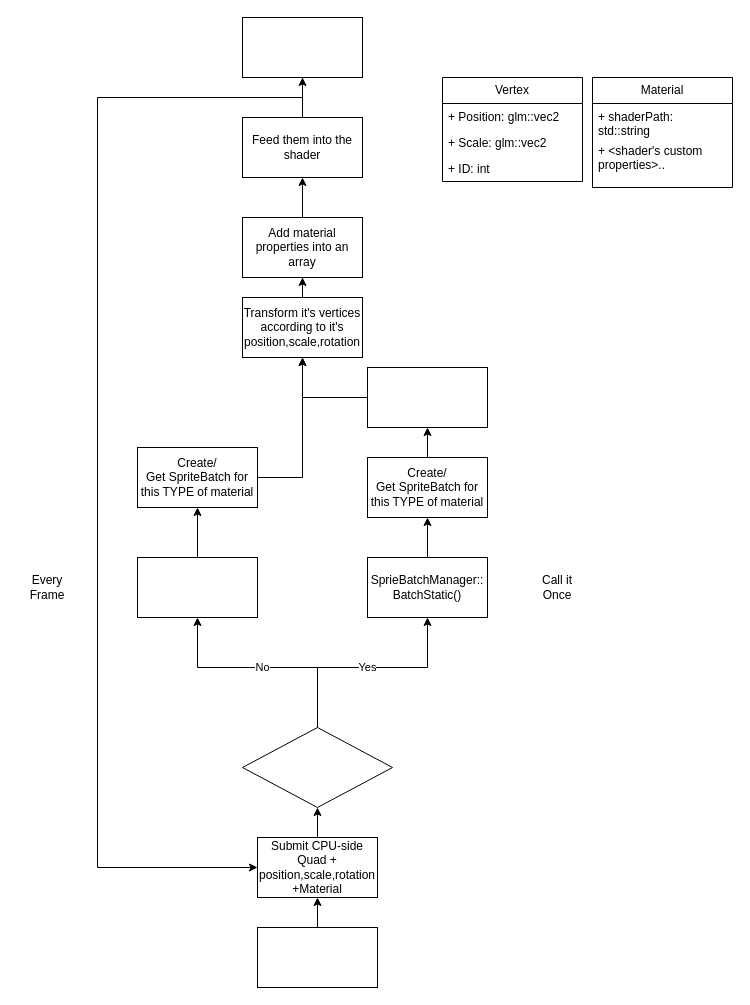
This 750x1005 diagram has some shape labels left out. Each missing label, with the centre of its shape:
"Is the sprite renderer static?" belongs at point (317, 767).
"Recreate VAO,VBO,IBO and fill it with this new object" belongs at point (427, 397).
"Renderer::Draw()" belongs at point (302, 47).
"SprieBatchManager:: Draw()" belongs at point (197, 587).
"SpriteRenderer" belongs at point (317, 957).
